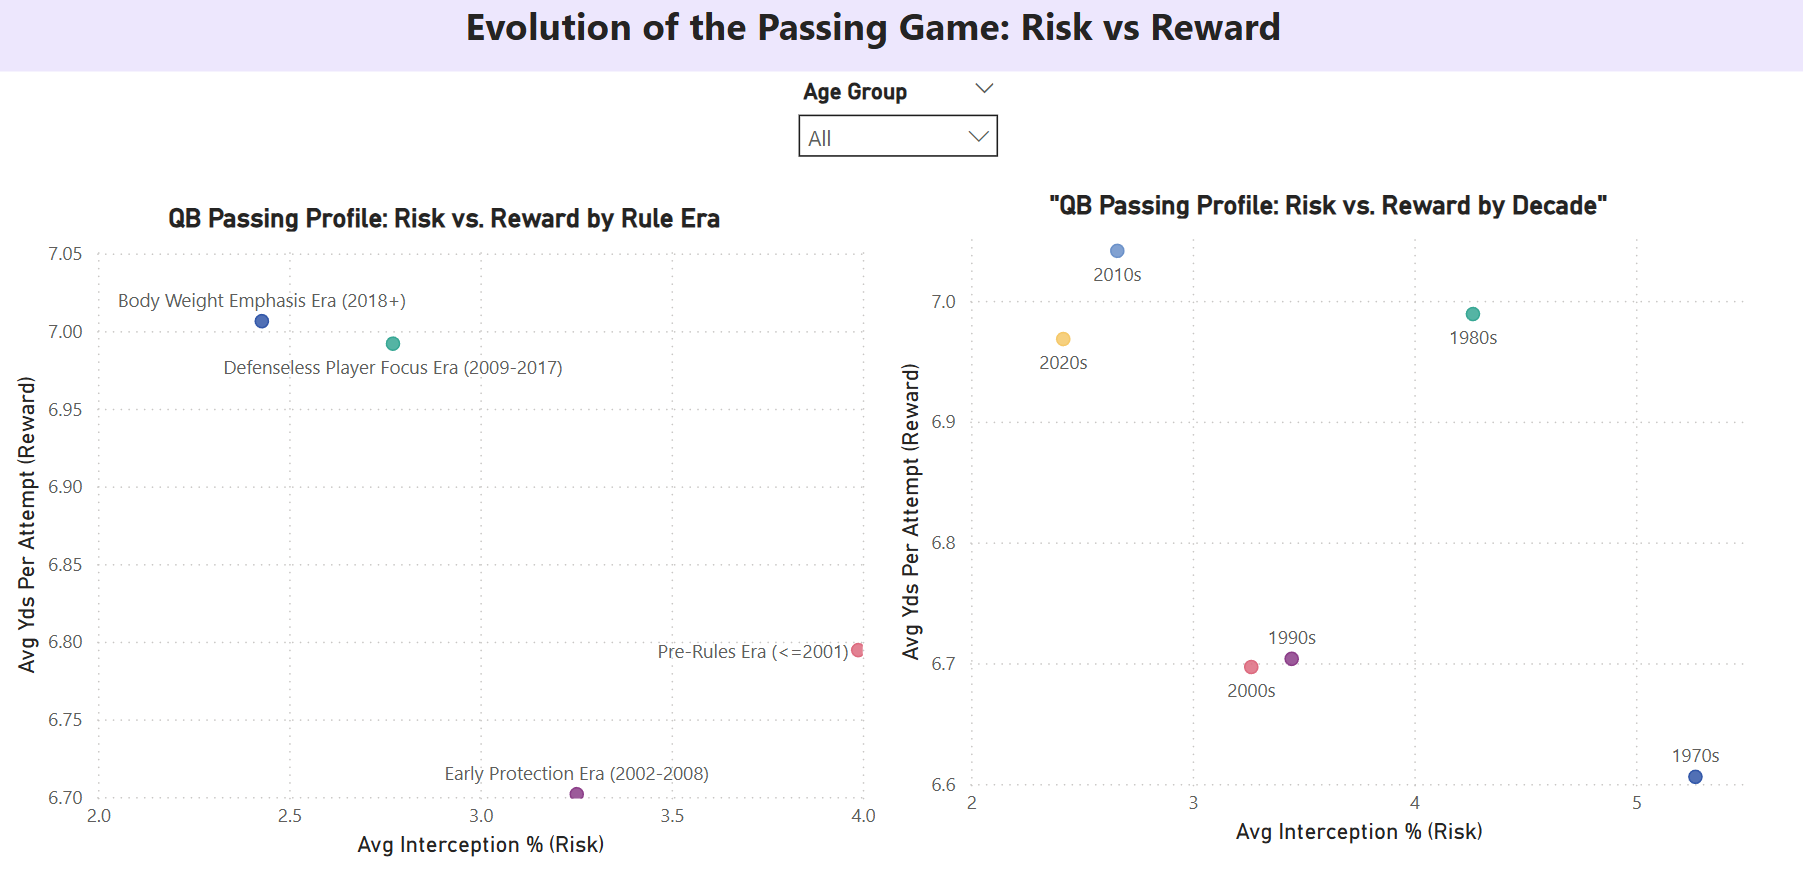

Layout of this report page (visuals, bound fields, positions):
{"tool":"powerbi","page":{"name":"Risk vs Reward","canvas":[1280,720],"ordinal":3},"visuals":[{"type":"scatterChart","title":"\"QB Passing Profile: Risk vs. Reward by Decade\"","fields":{"X":["pass_cleaned.Avg Interception %"],"Y":["pass_cleaned.Avg Yds Per Attempt"],"Series":["pass_cleaned.Decade"]},"box":[650.6,126.4,562.7,424.7],"z":0},{"type":"scatterChart","title":"QB Passing Profile: Risk vs. Reward by Rule Era","fields":{"X":["pass_cleaned.Avg Interception %"],"Y":["pass_cleaned.Avg Yds Per Attempt"],"Series":["pass_cleaned.Rule_Era"]},"box":[83.4,134.7,562.7,424.7],"z":1000},{"type":"textbox","box":[553.1,593.5,238,67.4],"z":2000},{"type":"slicer","fields":{"Values":["pass_cleaned.Age_Group"]},"box":[581.9,50.7,148.2,62.9],"z":3000},{"type":"textbox","box":[0,0,1280,50.7],"z":4000}]}

Visuals, with their boxes on the page's 1280x720 design canvas (x1, y1, x2, y2). These are canvas units, not pixel positions in the 1803x879 screenshot, which may show the page scaled, cropped or inside an application window:
""QB Passing Profile: Risk vs. Reward by Decade"" scatterChart: [x1=651, y1=126, x2=1213, y2=551]
"QB Passing Profile: Risk vs. Reward by Rule Era" scatterChart: [x1=83, y1=135, x2=646, y2=559]
textbox: [x1=553, y1=594, x2=791, y2=661]
slicer - pass_cleaned.Age_Group: [x1=582, y1=51, x2=730, y2=114]
textbox: [x1=0, y1=0, x2=1280, y2=51]
